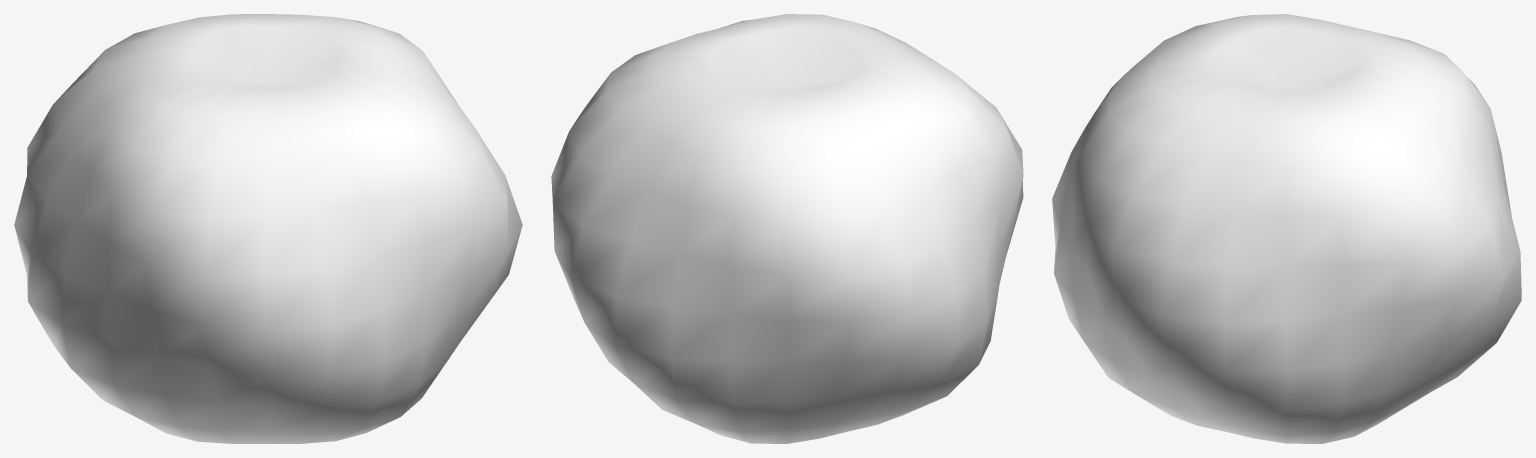
File: cabbage.glb
3 views of the same model, side by side, from view 1: azimuth 30°, elevation 25°; view 2: azimuth 150°, elevation 25°; view 3: azimuth 270°, elevation 25° (orthographic). The views are drawn at different scales.
Visible parts, largest first — view 1: Cabbage; view 2: Cabbage; view 3: Cabbage.
Part boxes in pixels (box(x1,y1,x2,y2)): Cabbage: box(14, 14, 522, 443); Cabbage: box(551, 14, 1023, 443); Cabbage: box(1052, 14, 1521, 443).
Bounding box in the file's own units: 0.1689 × 0.1382 × 0.1702.
Materials: 1 (1 with a texture image).
